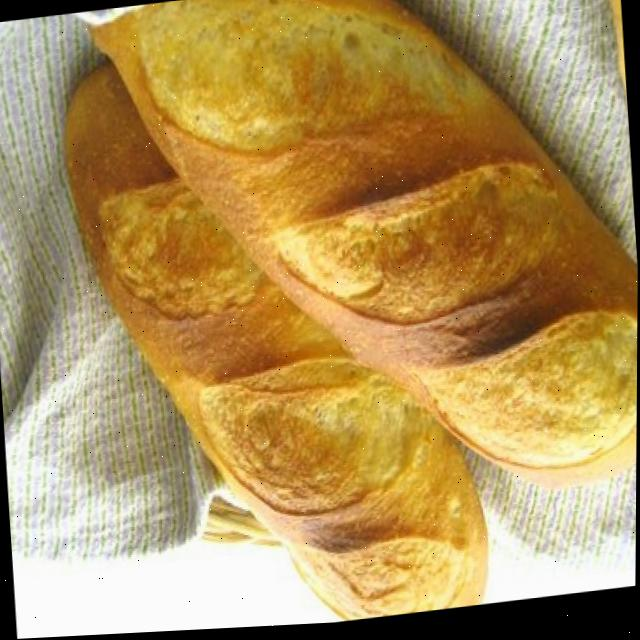面包点心: (35, 0, 640, 638)
